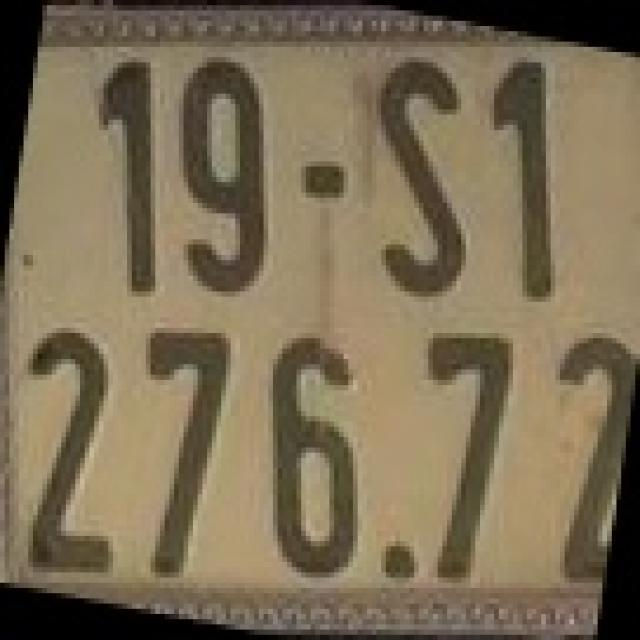1: (485, 52, 579, 302), (80, 52, 174, 302)
2: (18, 318, 122, 578), (541, 328, 640, 588)
6: (259, 322, 367, 582)
7: (414, 322, 522, 582), (141, 322, 235, 578)
9: (170, 47, 282, 302)
S: (368, 52, 470, 302)
